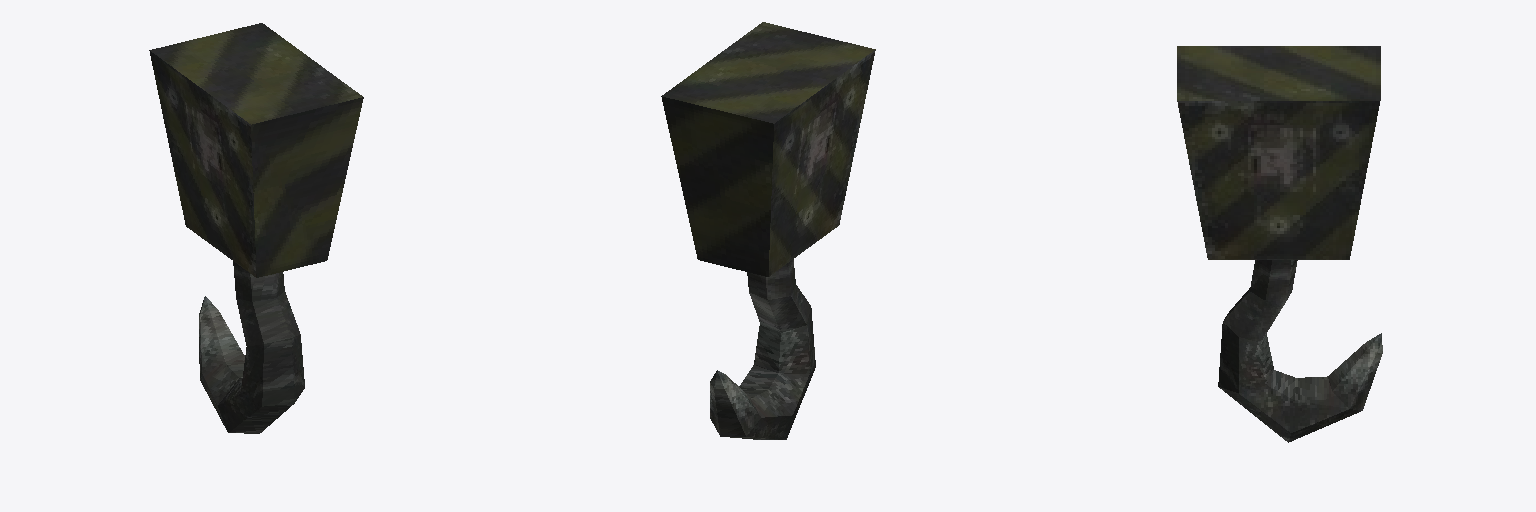
The picture shows the model from 3 angles: view 1: azimuth 30°, elevation 25°; view 2: azimuth 150°, elevation 25°; view 3: azimuth 270°, elevation 25°; orthographic projection.
Parts seen in each view (by area): view 1: Hook_Cube.000, Cube.003_Cube.002; view 2: Hook_Cube.000, Cube.003_Cube.002; view 3: Hook_Cube.000, Cube.003_Cube.002.
Boxes of the visible parts, box(x1,y1,x2,y2) form: Hook_Cube.000: box(149, 23, 363, 277); Cube.003_Cube.002: box(199, 261, 304, 433); Hook_Cube.000: box(661, 22, 875, 276); Cube.003_Cube.002: box(710, 259, 815, 439); Hook_Cube.000: box(1177, 46, 1380, 259); Cube.003_Cube.002: box(1218, 260, 1382, 442).
Bounding box in the file's own units: 0.6703 × 2.07 × 1.06.
2 materials, 1 textured.